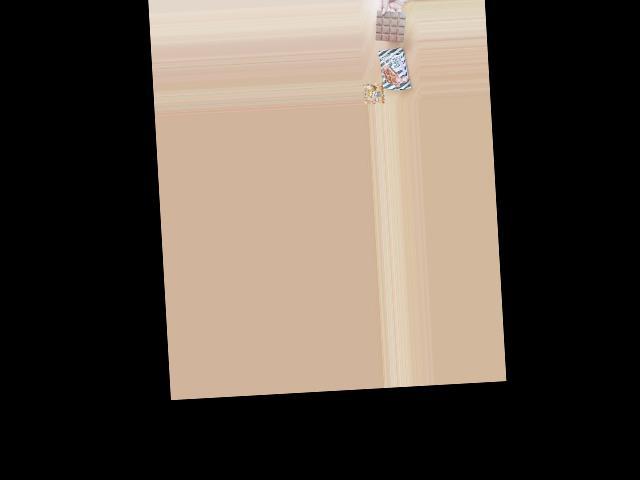chocolate: (379, 45, 410, 92)
